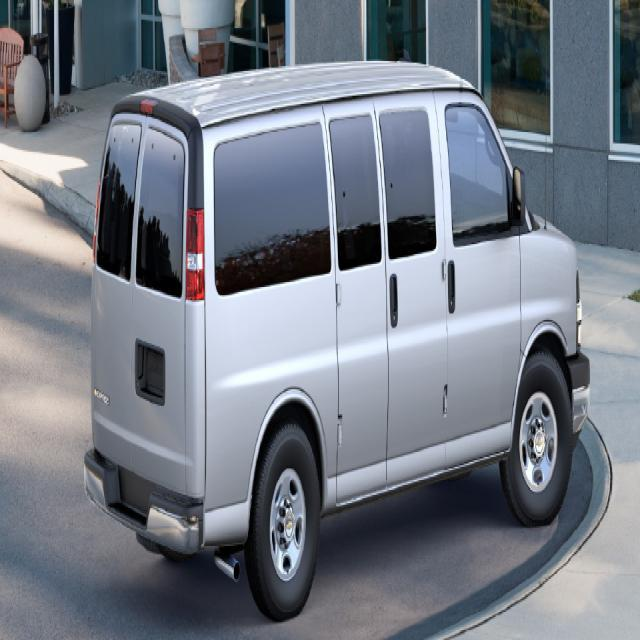truck: (82, 56, 590, 620)
